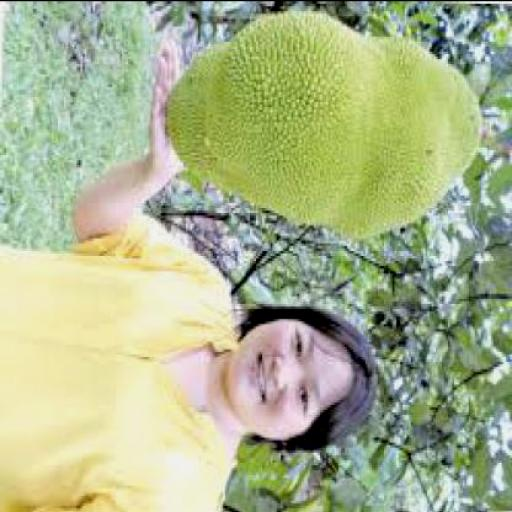biodegradable: (165, 3, 490, 232)
